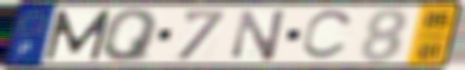7: (176, 7, 229, 63)
8: (358, 6, 412, 64)
C: (298, 8, 358, 63)
M: (43, 8, 115, 63)
N: (229, 8, 290, 63)
Q: (100, 7, 162, 63)
